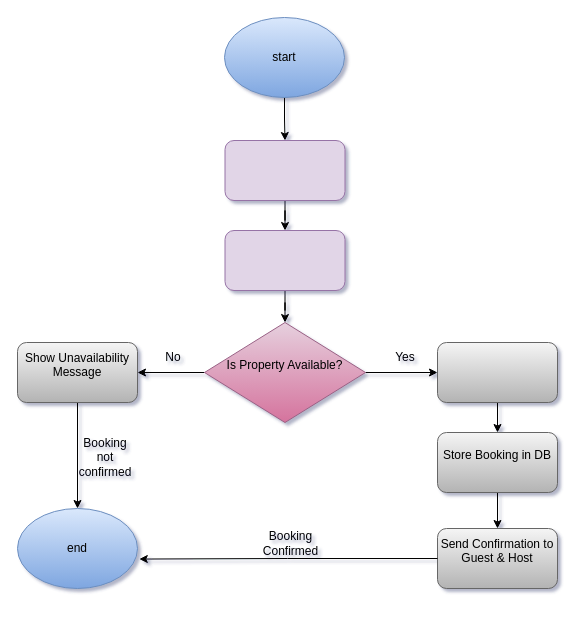
The diagram is 581 pixels wide and 618 high, and some of its shapes have lost their labels. Here are the shapes that lost their labels. From the top down, the centre of each, then its label:
the point at 284,170: Search Properties
the point at 284,260: Select Property & Enter Booking Details
the point at 497,372: Process Payment
